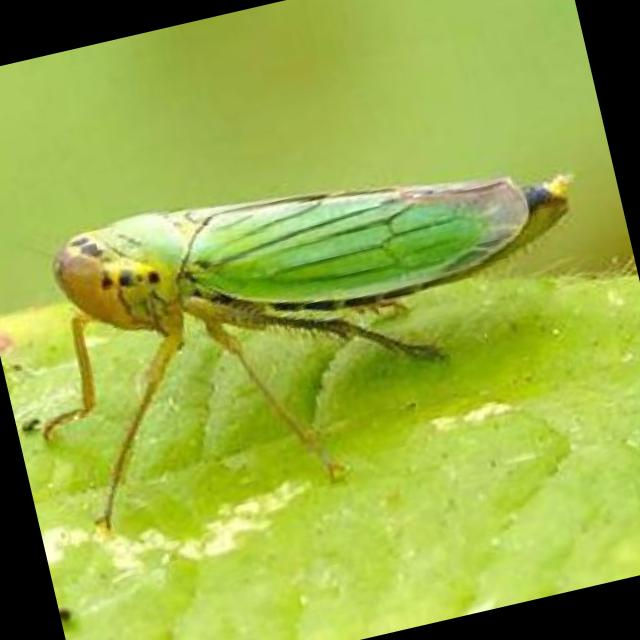green-leafhopper: (39, 174, 571, 536)
